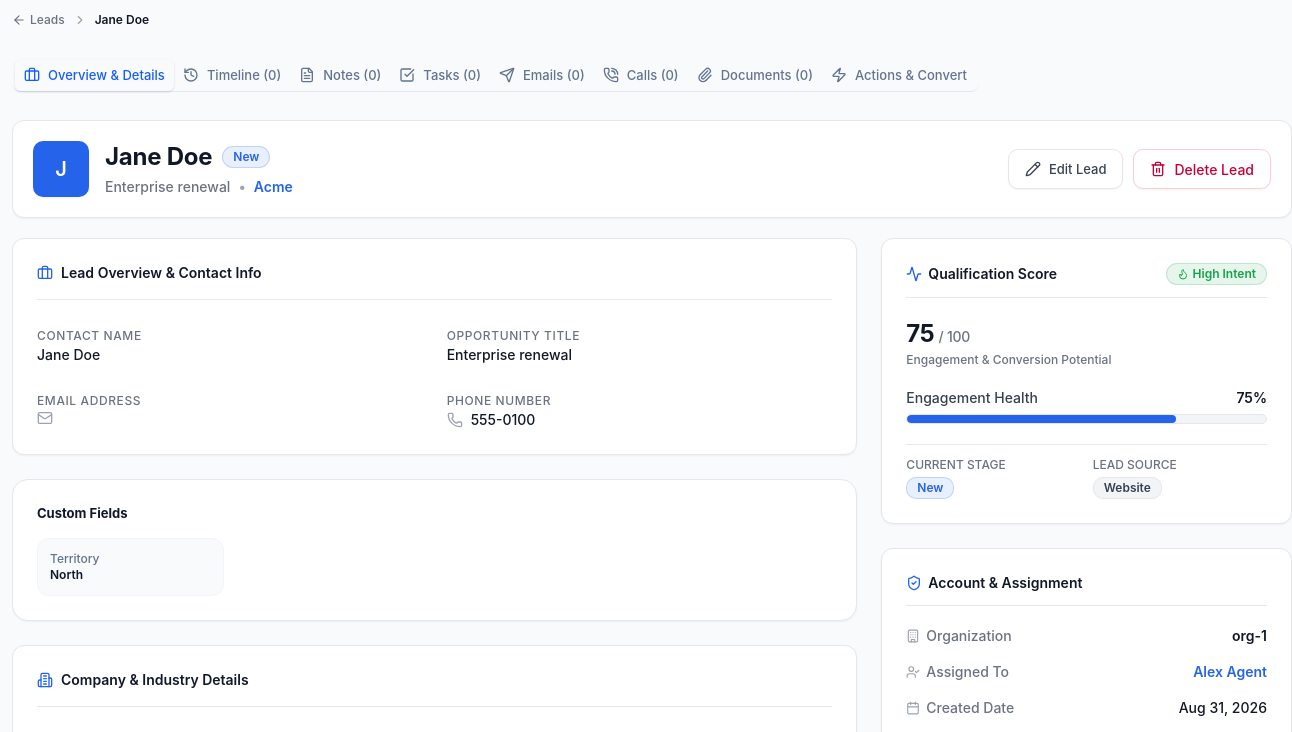
Scenario: LeadDetailPage email workflow › blocks sending when the Lead has no valid email
The image size is (1292, 732).
Click the tab "Emails (0)".
click(542, 75)  # box [490,60,594,90]
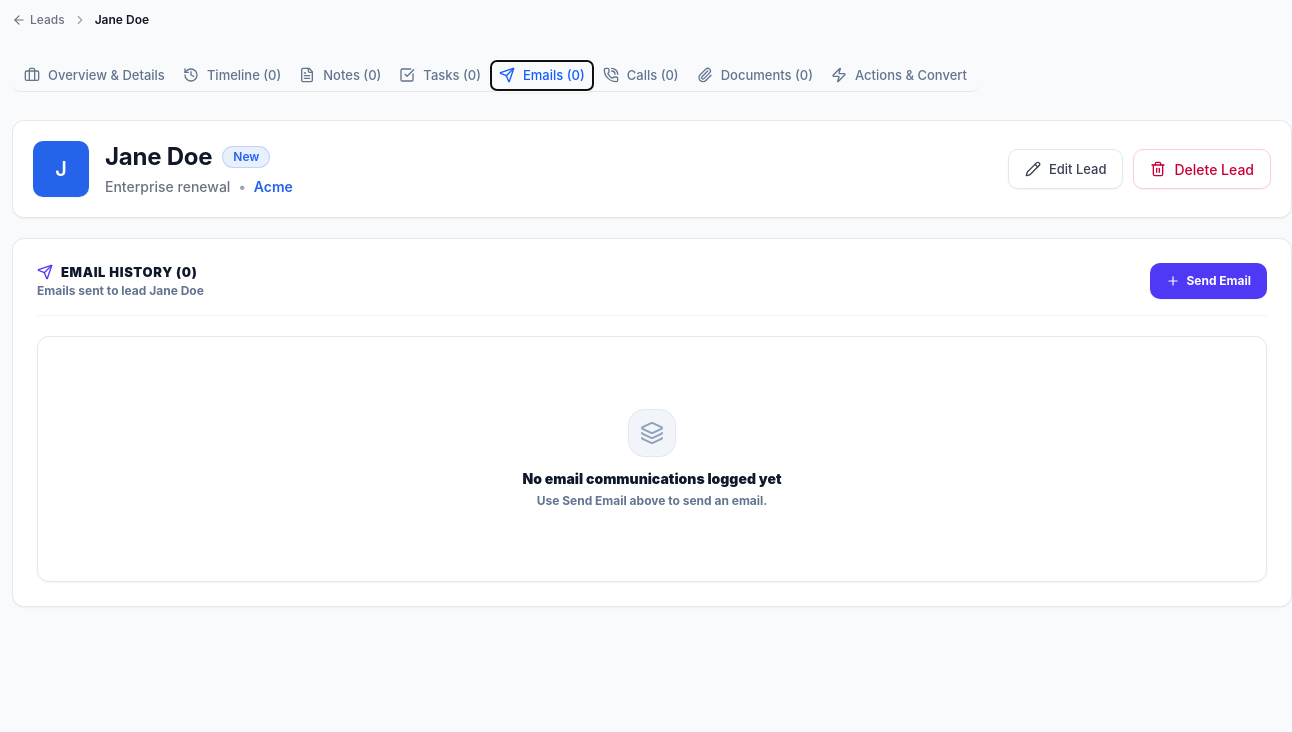
Click the button "Send Email".
click(1209, 281)  # box [1150,263,1267,299]
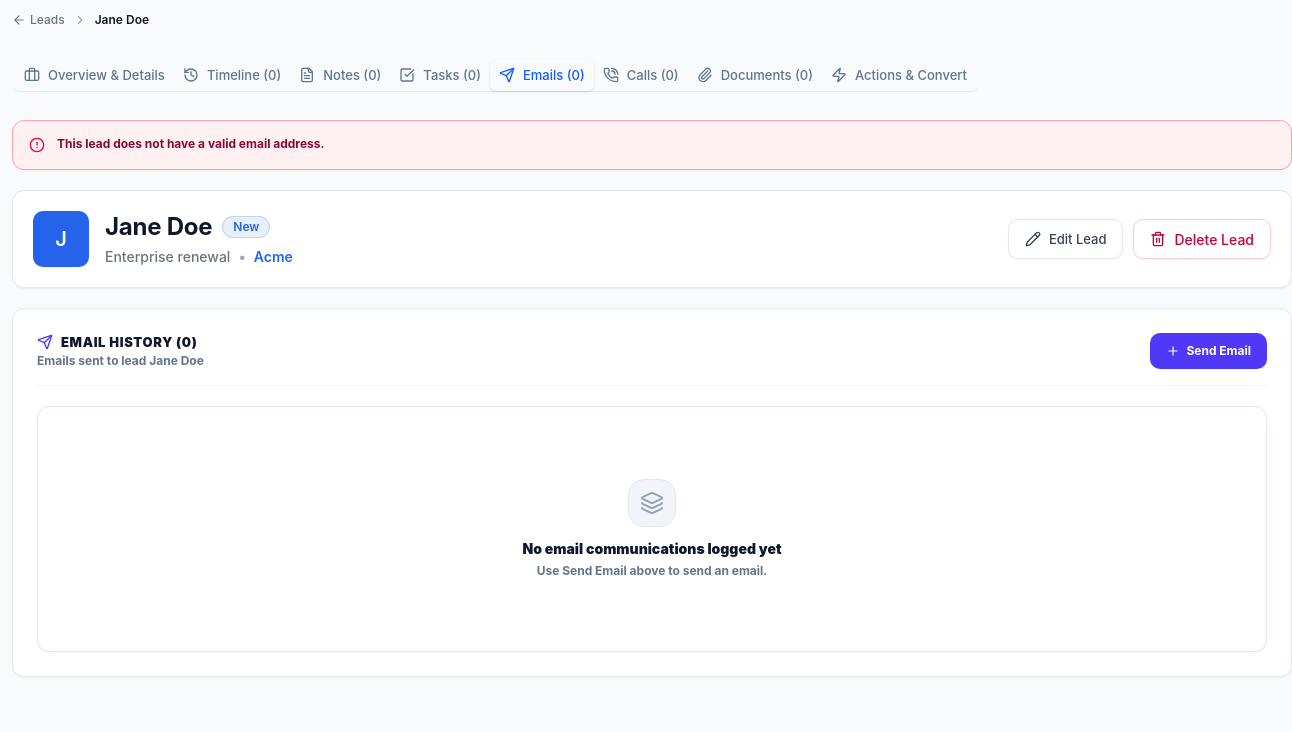
Expected: the text "This lead does not have a valid email address." is shown, [57,136,325,151]
